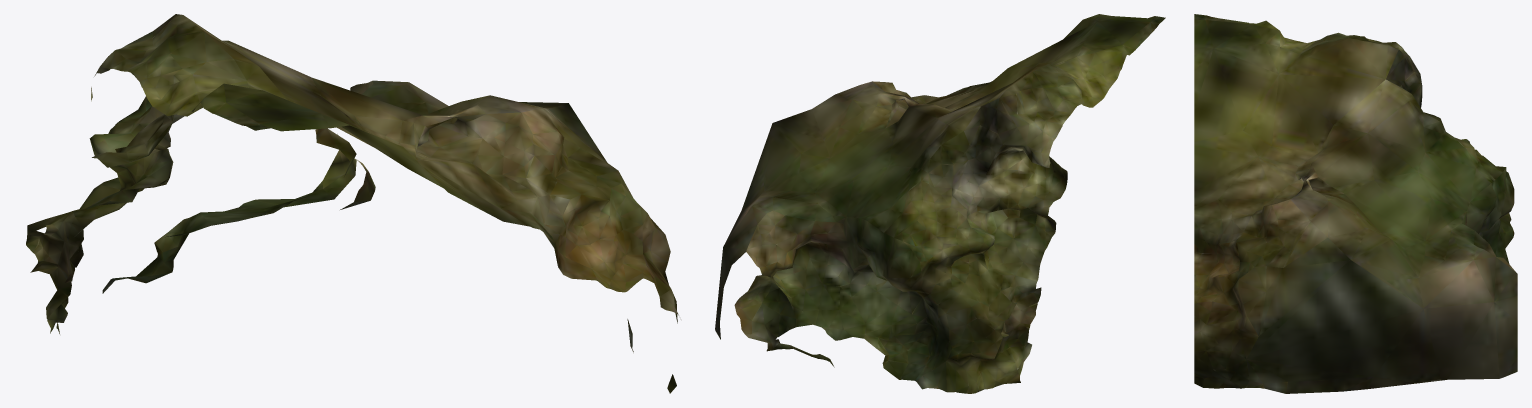
The picture shows the model from 3 angles, left to right: view 1: azimuth 30°, elevation 25°; view 2: azimuth 150°, elevation 25°; view 3: azimuth 270°, elevation 25°; orthographic projection. The views are drawn at different scales.
Bounding box in the file's own units: 0.6472 × 0.4931 × 0.6082.
Materials: 1 (1 with a texture image).
